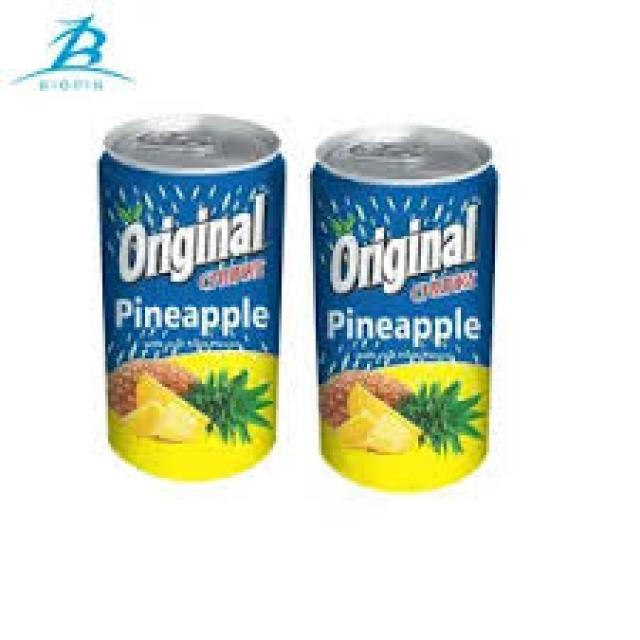Cans: (302, 108, 509, 495), (88, 102, 293, 484)
